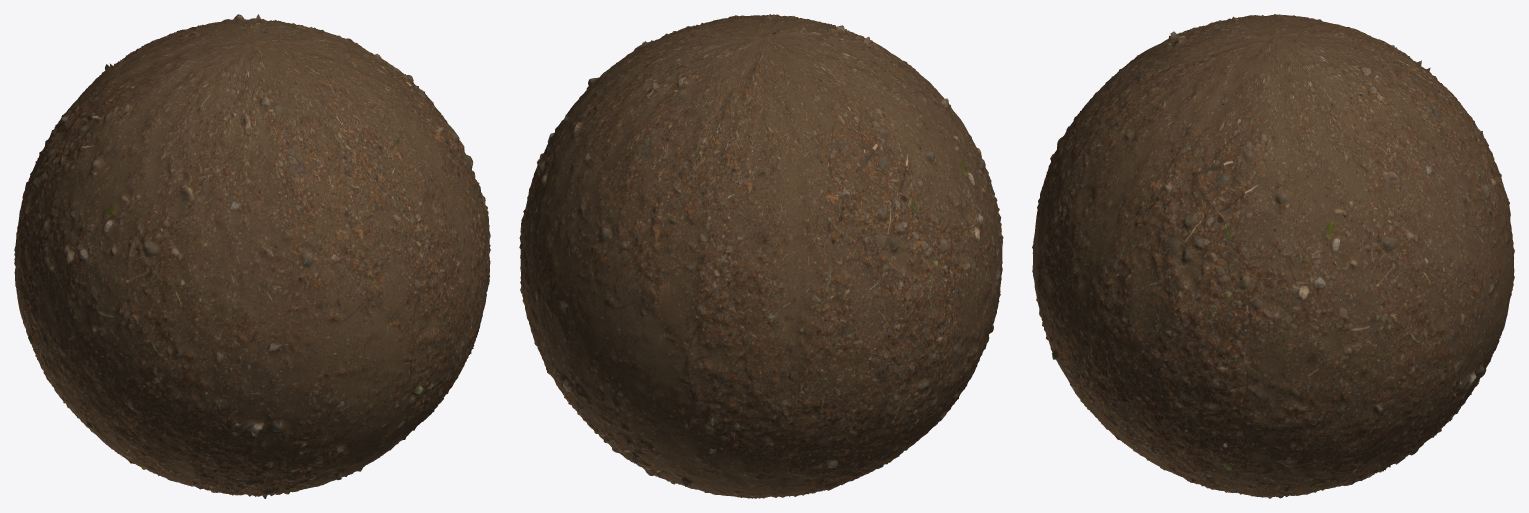
Rendered from forest_ground_06_1k.gltf.
3 views of the same model, side by side, from view 1: azimuth 30°, elevation 25°; view 2: azimuth 150°, elevation 25°; view 3: azimuth 270°, elevation 25° (orthographic).
Parts seen in each view (by area): view 1: sphere_gltf; view 2: sphere_gltf; view 3: sphere_gltf.
Boxes of the visible parts, x1,y1,x2,y2 form: sphere_gltf: (14,14,490,498); sphere_gltf: (519,14,1003,498); sphere_gltf: (1032,14,1514,498).
Size of the model in its own units: 2.09 by 2.12 by 2.11.
Materials: 1 (1 with a texture image).
